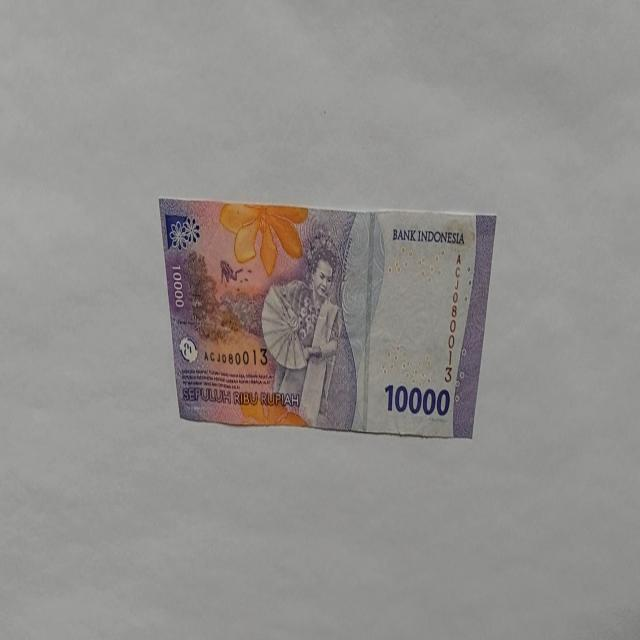sepuluh ribu rupiah: (157, 196, 497, 440)
